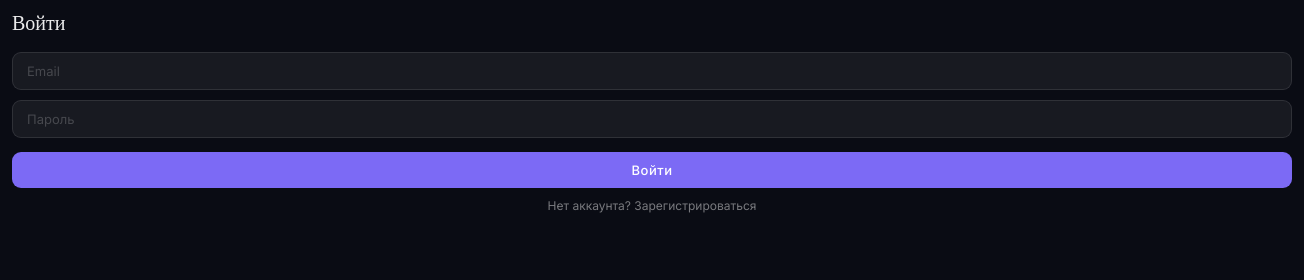
Test: AuthForm — валидация и взаимодействие › переключается в режим регистрации
Step 1. Click the button "Нет аккаунта? Зарегистрироваться" → [652, 206], box [12,198,1292,213]
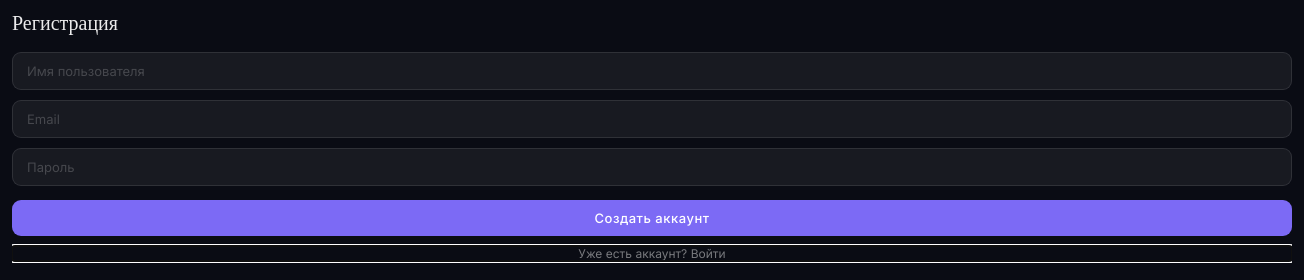
Result: the field with placeholder "Имя пользователя" is shown at [12,52,1292,90]
Result: the button "Создать аккаунт" is shown at [12,200,1292,236]
